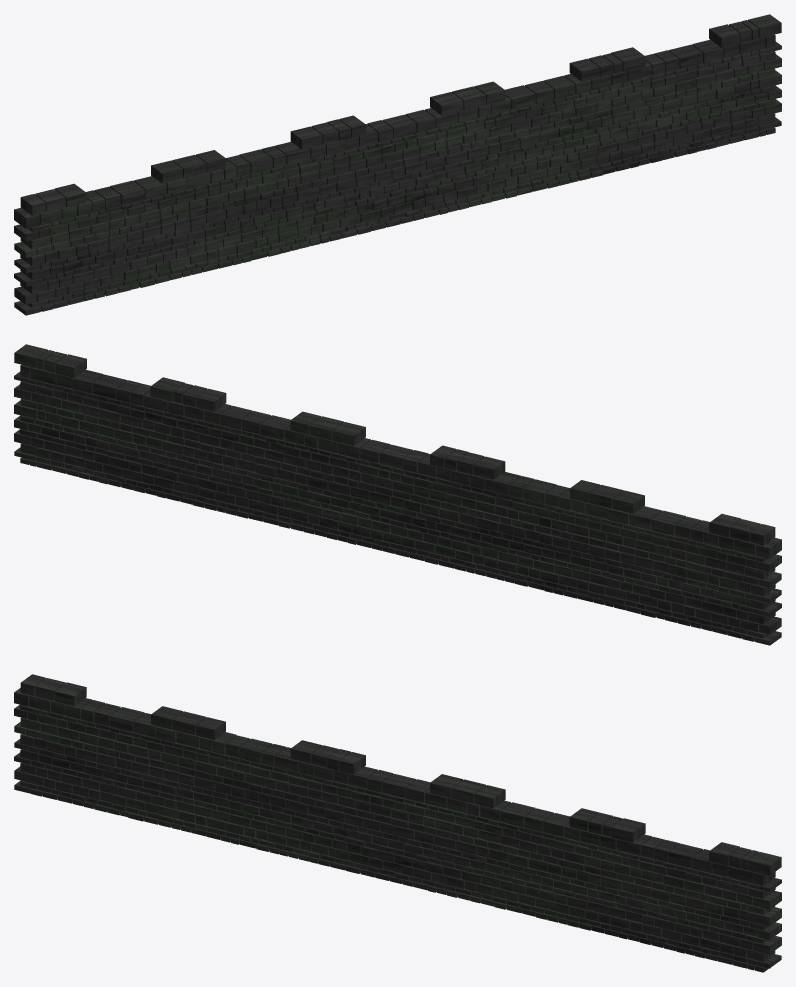
Rendered from Village walls.fbx.
3 views of the same model, one above another, from view 1: azimuth 30°, elevation 25°; view 2: azimuth 150°, elevation 25°; view 3: azimuth 330°, elevation 25° (orthographic).
Parts seen in each view (by area): view 1: Wall; view 2: Wall; view 3: Wall.
Boxes of the visible parts, left/top/right/bottom form: Wall: left=14, top=14, right=781, bottom=315; Wall: left=14, top=344, right=781, bottom=645; Wall: left=14, top=674, right=781, bottom=972.
Size of the model in its own units: 1993 by 274 by 57.6.
